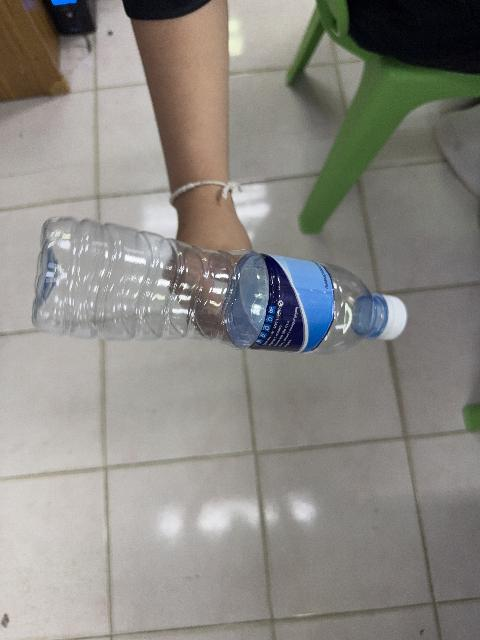bottle: (33, 218, 406, 352)
